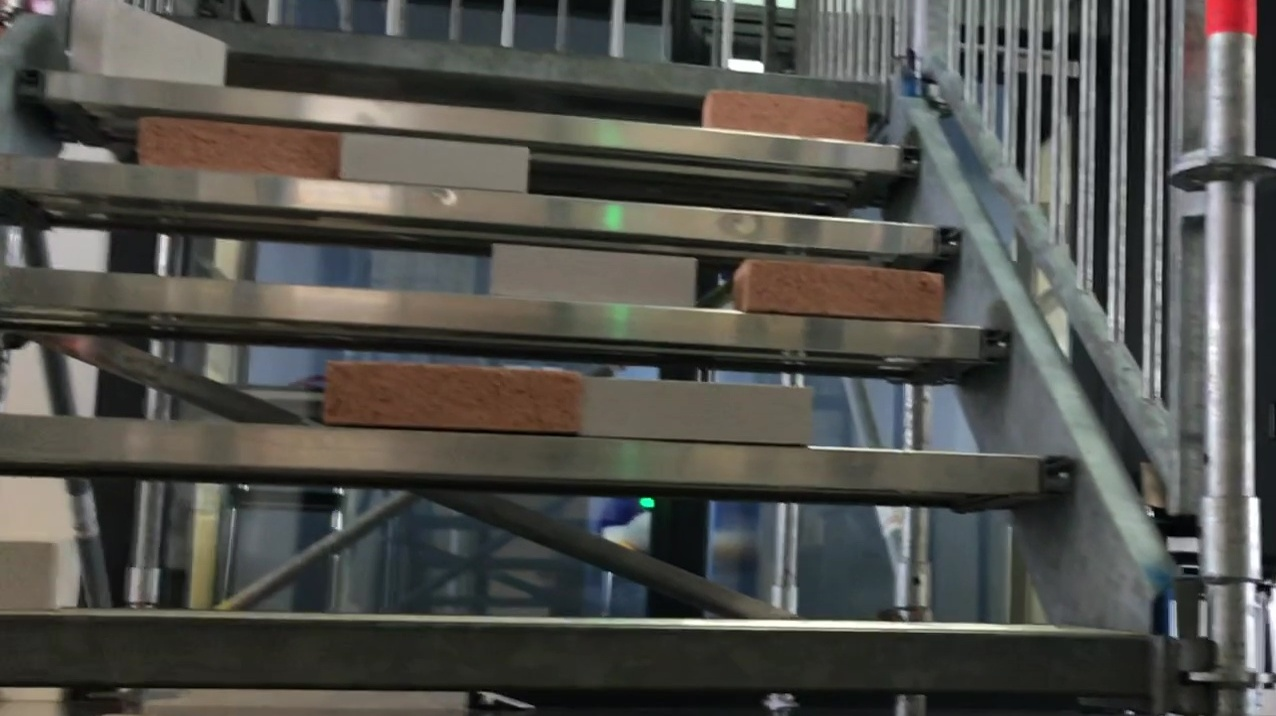brick: (326, 363, 582, 434), (585, 375, 811, 443), (141, 118, 340, 183), (731, 261, 943, 322), (74, 1, 225, 86), (494, 244, 693, 308), (344, 134, 526, 193), (702, 91, 865, 138), (3, 535, 78, 609)
edge: (21, 66, 918, 181), (3, 150, 960, 257), (1, 265, 1015, 360), (2, 415, 1082, 499), (2, 618, 1150, 690)
